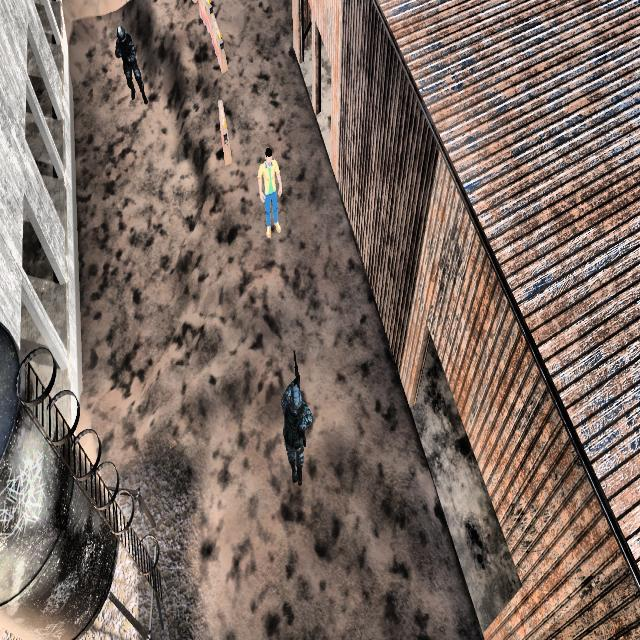bad: (269, 350, 319, 498), (107, 18, 153, 118)
good: (248, 130, 290, 251)
